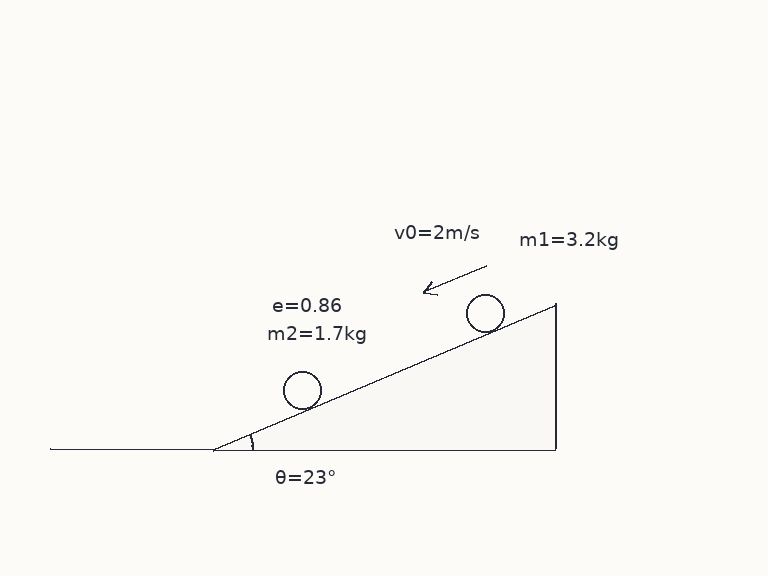ball: (464, 292, 506, 334), (281, 369, 323, 411)
ramp: (211, 302, 557, 451)
